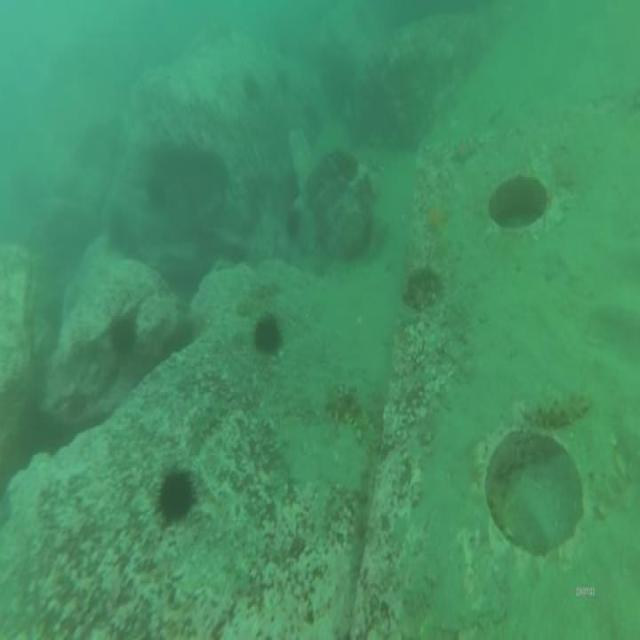echinus: (157, 464, 195, 524), (250, 308, 282, 360), (110, 313, 134, 360), (242, 65, 260, 109), (286, 166, 302, 204)
holothurian: (522, 378, 594, 431), (325, 376, 367, 446), (400, 261, 445, 305)
